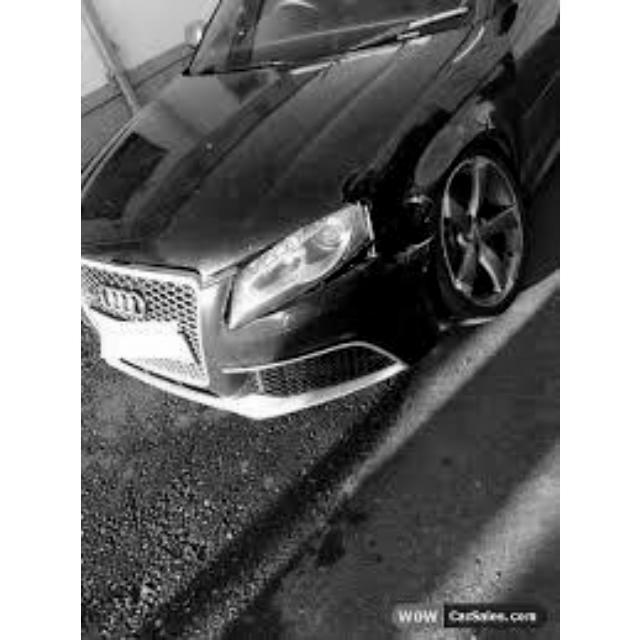fender-dent: (352, 124, 458, 262)
